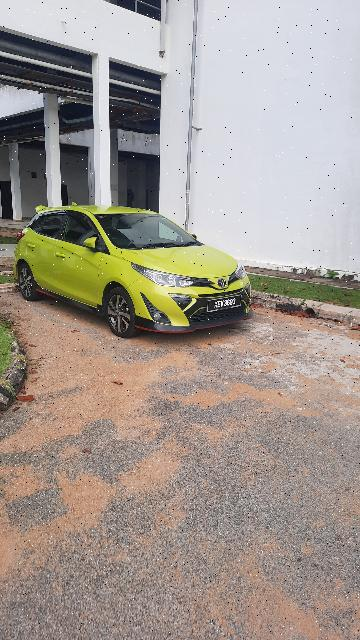License_Plate: (209, 295, 244, 314)
car: (11, 203, 255, 341)
